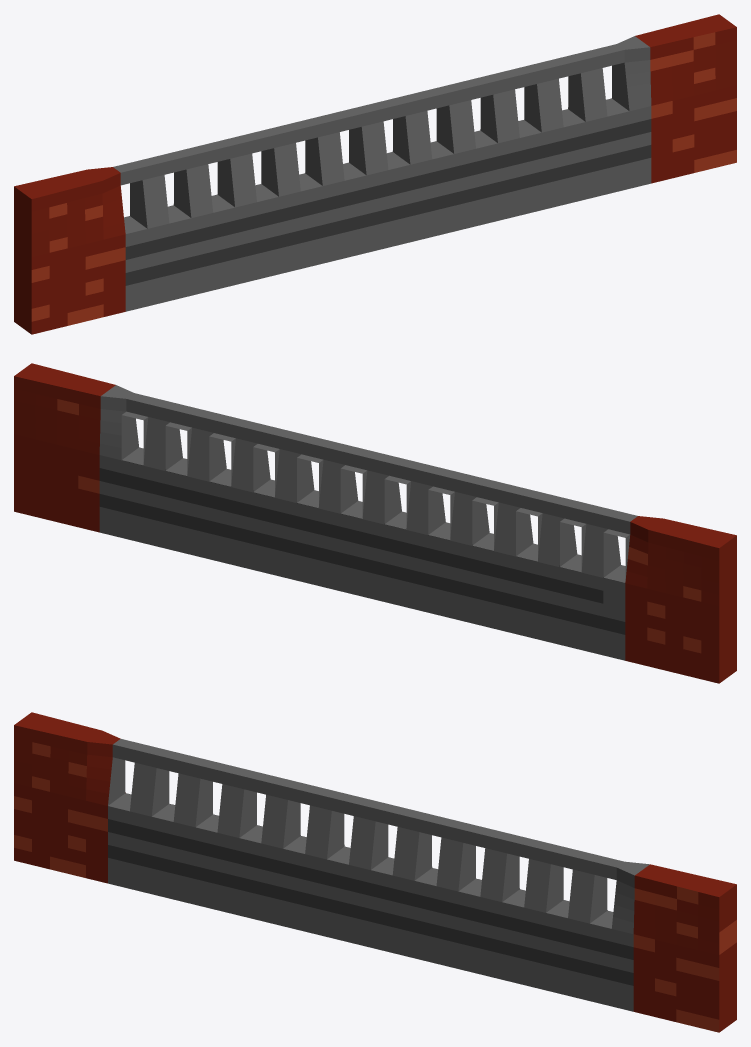
Rendered from FrontGate.fbx.
The picture shows the model from 3 angles, top to bottom: view 1: azimuth 30°, elevation 25°; view 2: azimuth 150°, elevation 25°; view 3: azimuth 330°, elevation 25°; orthographic projection.
Visible parts, largest first — view 1: Cube.001; view 2: Cube.001; view 3: Cube.001.
Part boxes in pixels (x1,y1,x2,y2): Cube.001: (14,14,736,334); Cube.001: (14,363,736,683); Cube.001: (14,712,736,1032).
Size of the model in its own units: 1647 by 302 by 71.6.
Materials: 1 (1 with a texture image).
